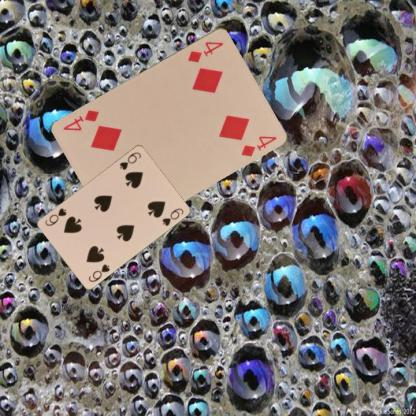4d: (185, 38, 225, 64)
6s: (117, 149, 142, 171), (86, 261, 111, 283)
